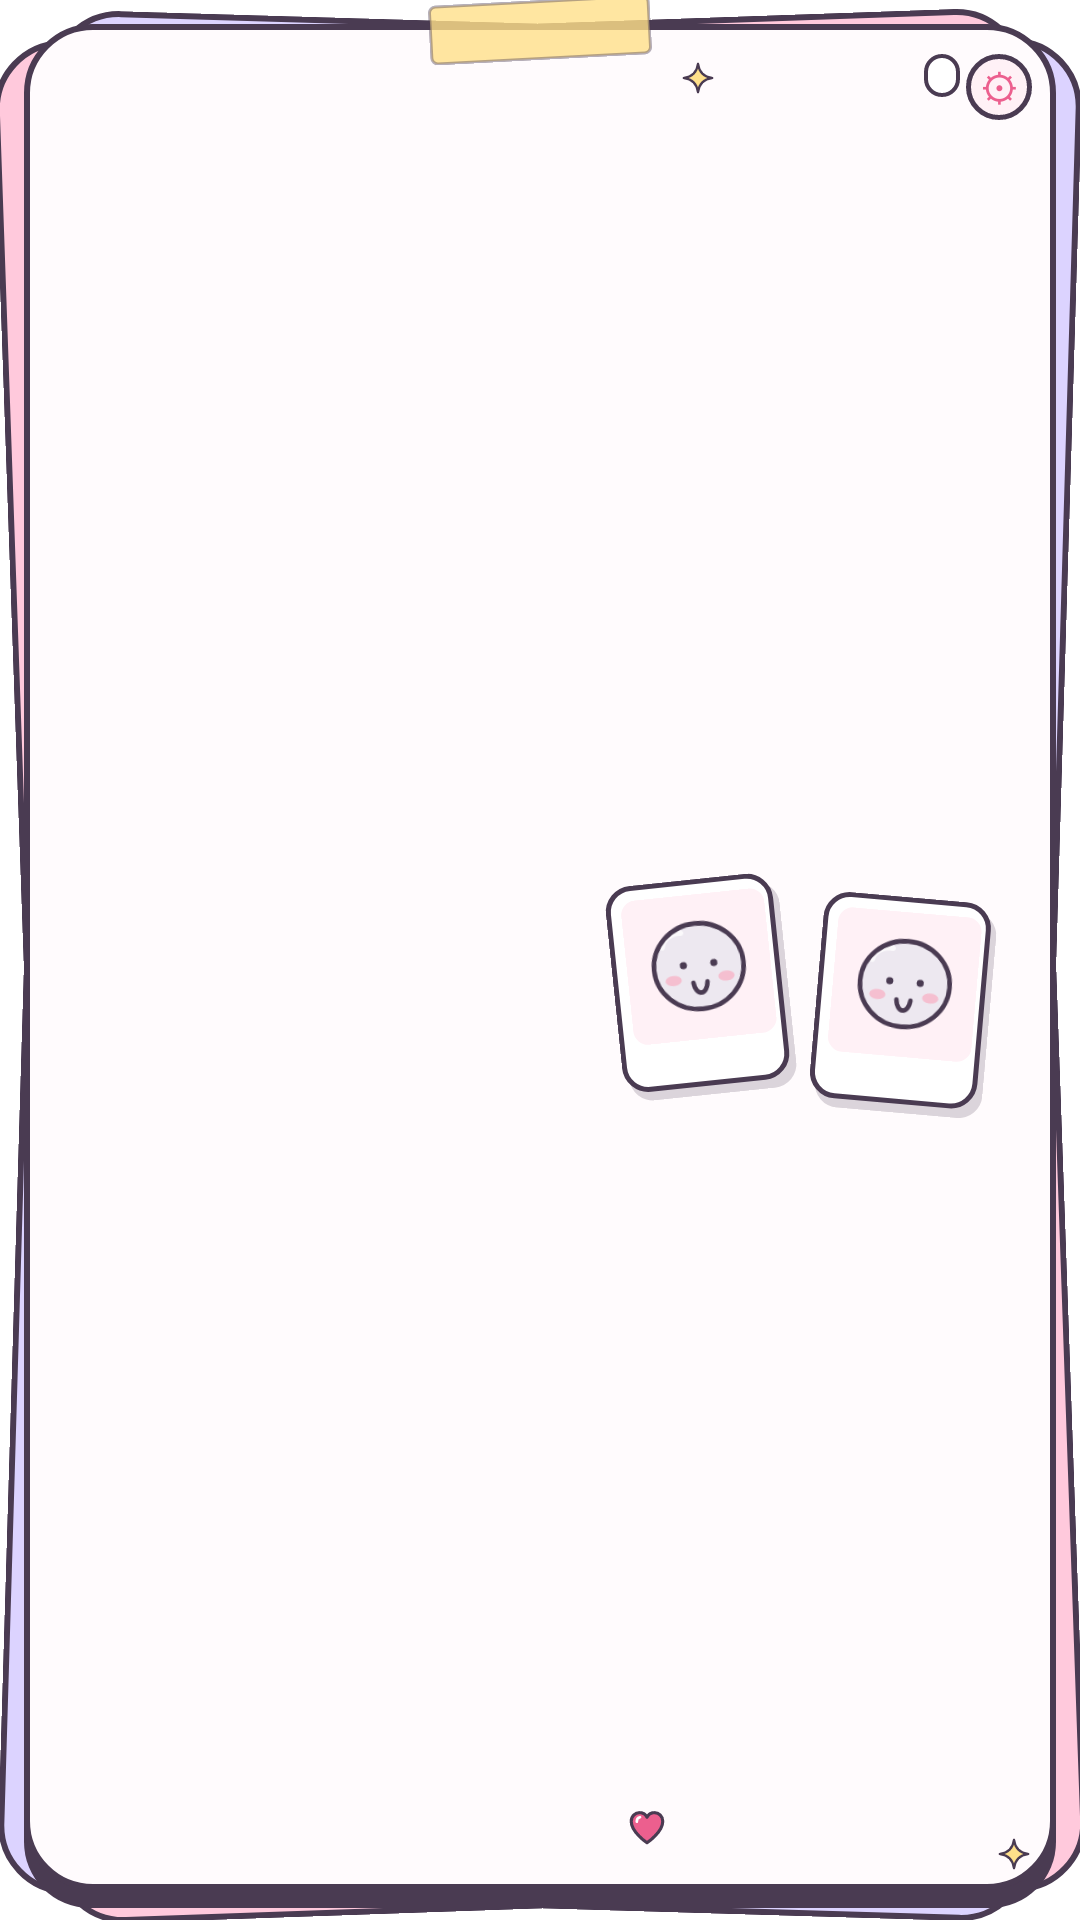

Screen size 1080px×1920px. Icon name, then its center in pixels as point (x, y):
sticker sparkle: point (698, 78), point (1014, 1854)
보고싶어 콕 보내기: point (647, 1828)
